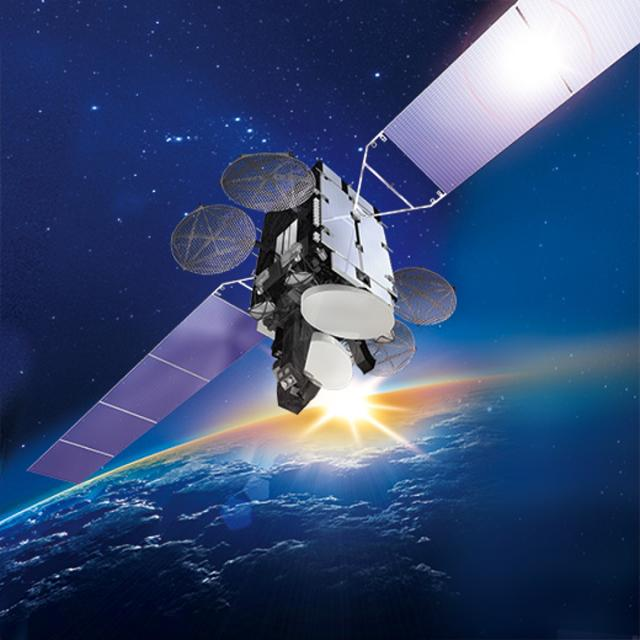satellite: (28, 0, 640, 507)
